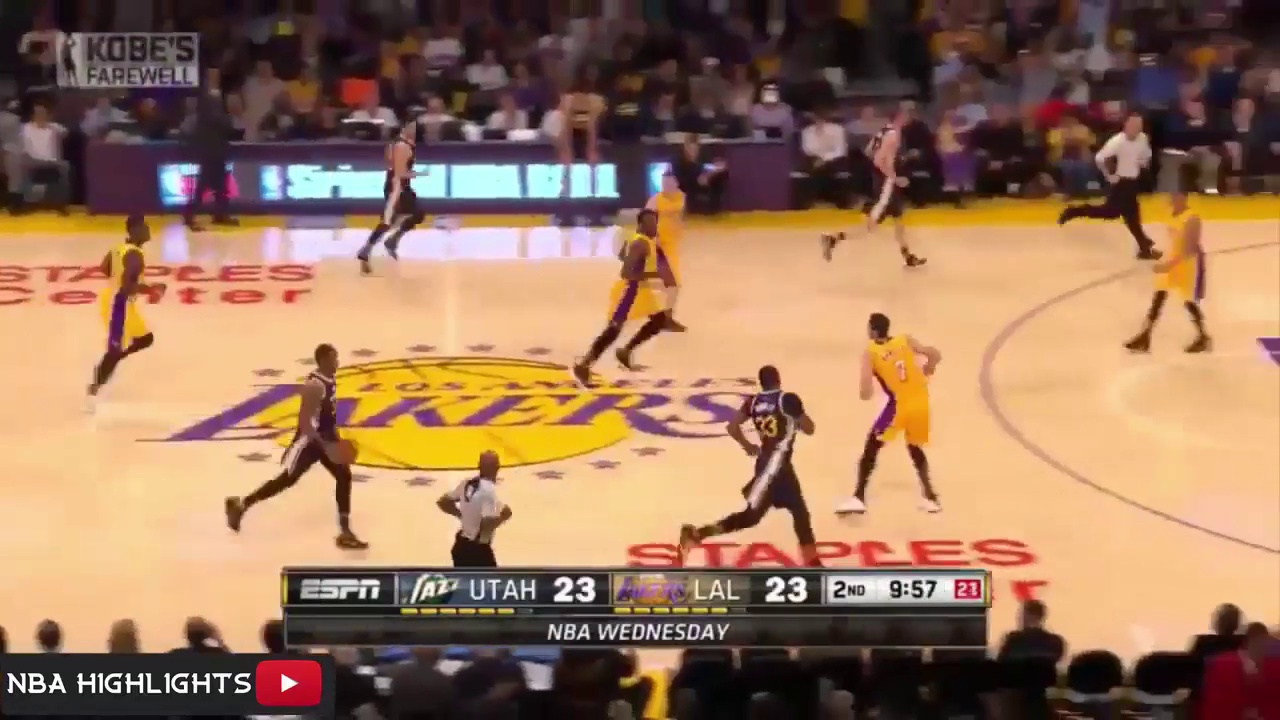jazz: (231, 336, 379, 553), (692, 355, 831, 567), (821, 109, 943, 269), (348, 114, 430, 277)
lakers: (835, 309, 958, 522), (69, 209, 167, 418), (1125, 179, 1223, 362), (568, 212, 659, 389), (641, 174, 698, 330)
